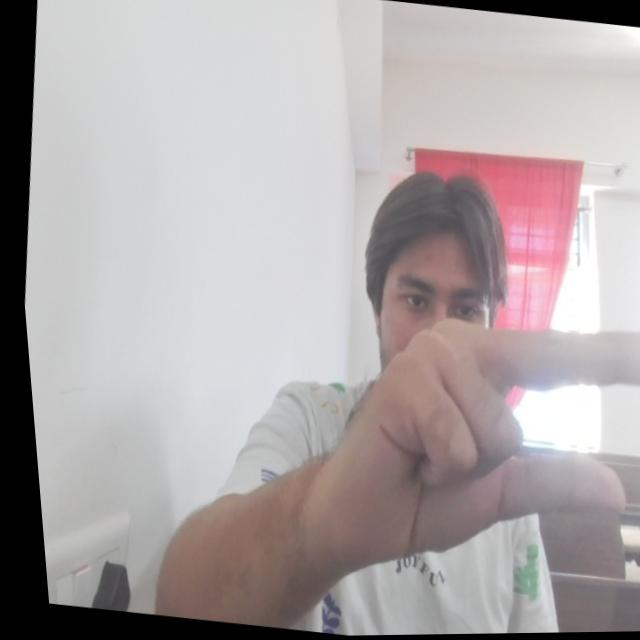no: (318, 291, 640, 603)
